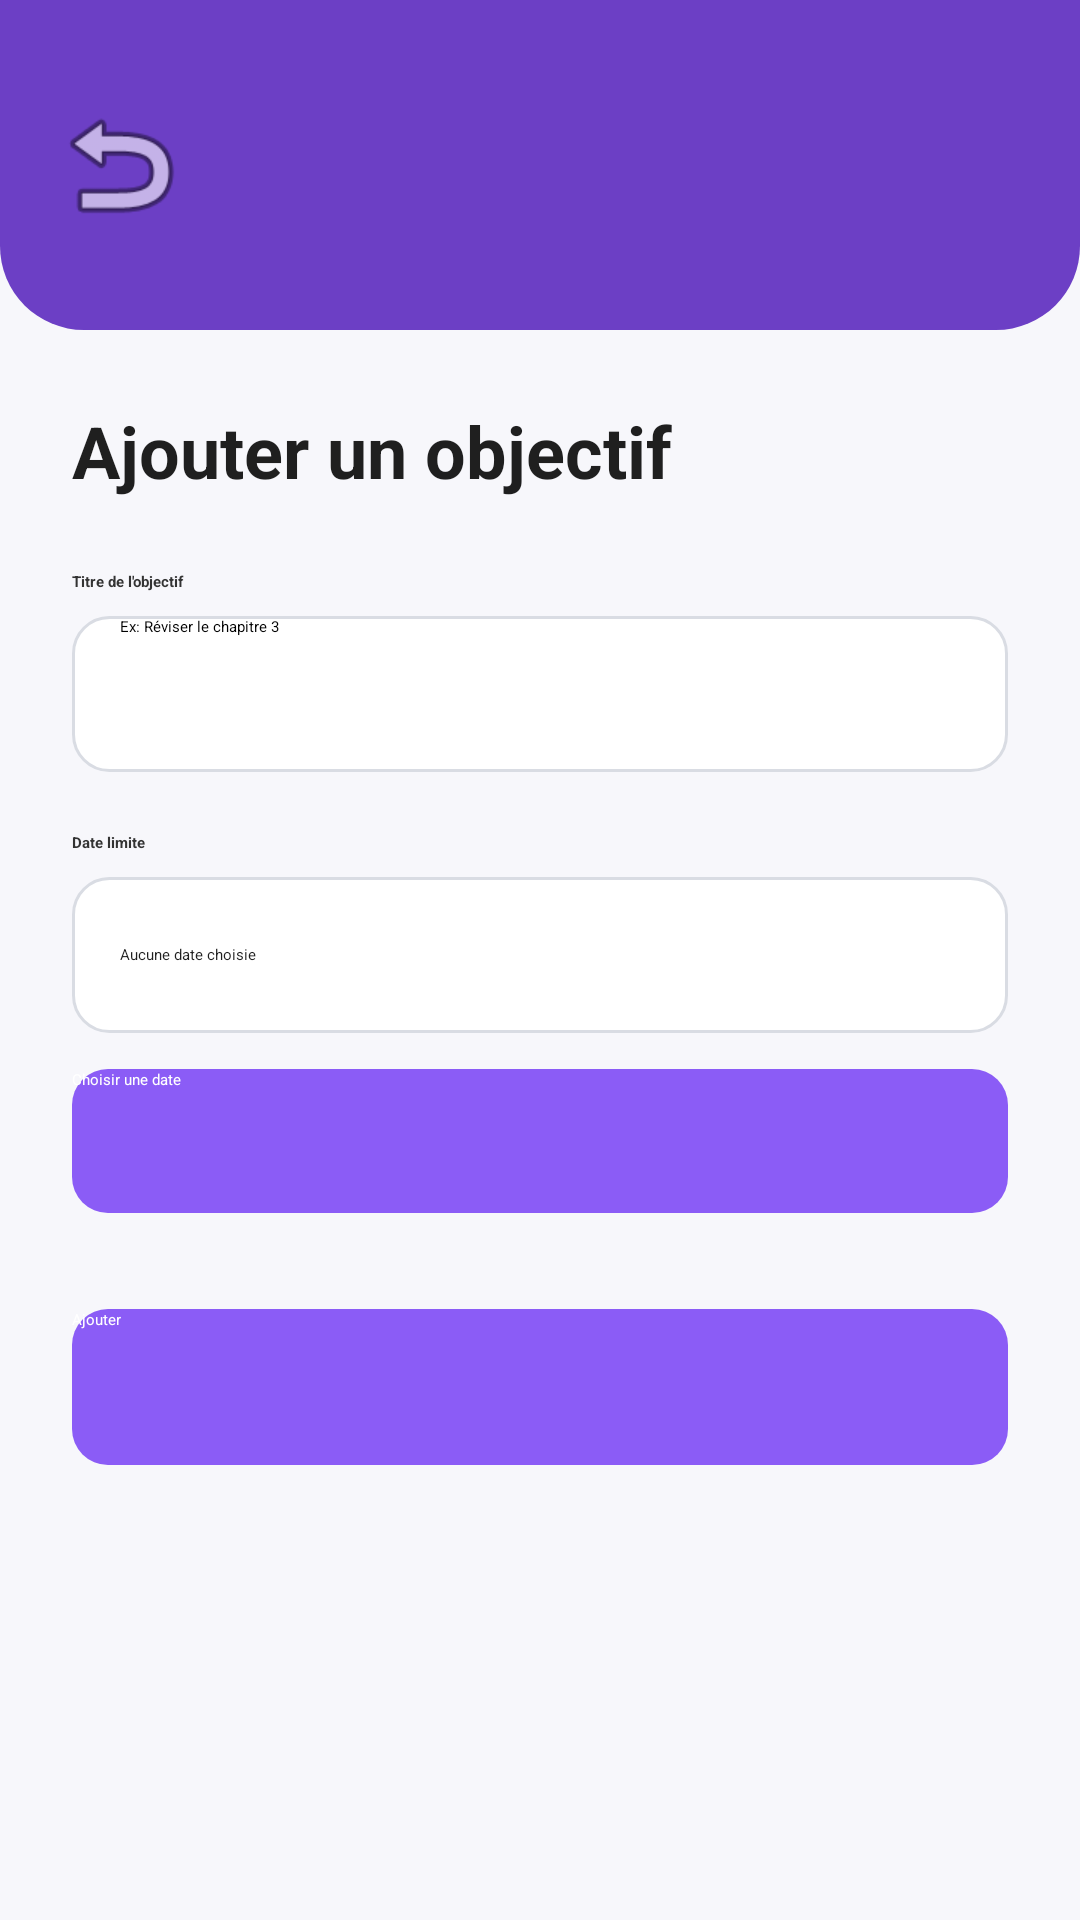

Where icons sit on this 1080*1920 app screen, as rect(x1, y1, x2, y2):
Retour: rect(70, 119, 174, 213)
